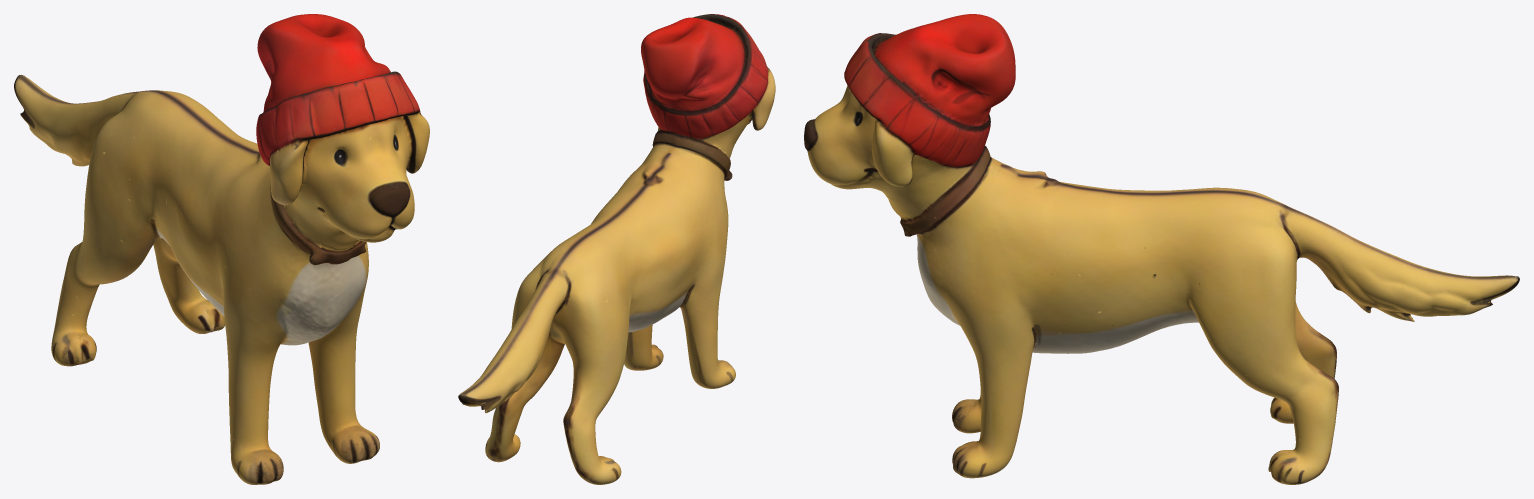
The model's file is Meshy_AI_Dog_Beanie_0619192759_texture.glb.
3 renders of one model, left to right at view 1: azimuth 30°, elevation 25°; view 2: azimuth 150°, elevation 25°; view 3: azimuth 270°, elevation 25°, orthographic. The views are drawn at different scales.
Size of the model in its own units: 0.5232 by 1.31 by 2.
1 material, 1 textured.
